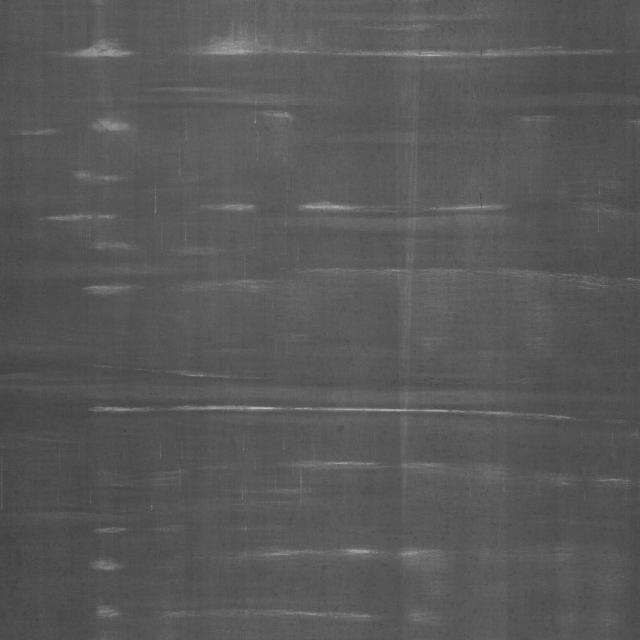punching_hole: (55, 26, 559, 580)
